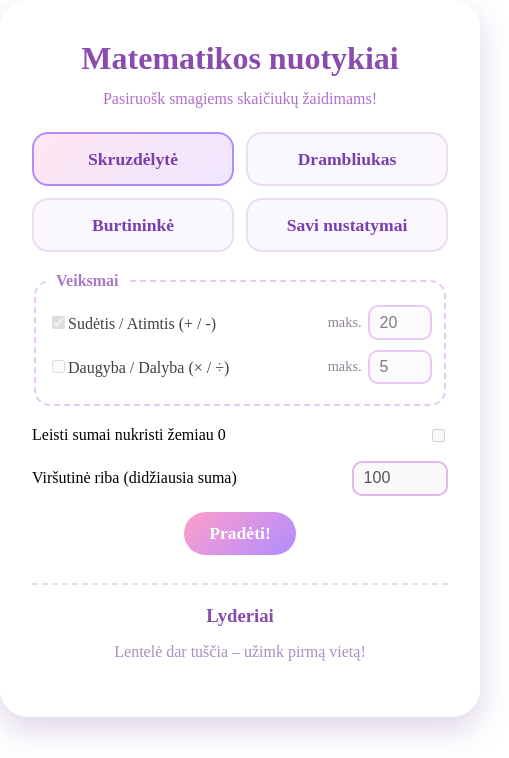
Test case: SettingsScreen presets › does not let custom edits leak into the presets
Click the radio button labelled "Savi nustatymai".
click(347, 225)  # box top-left (246, 198), bottom-right (448, 252)
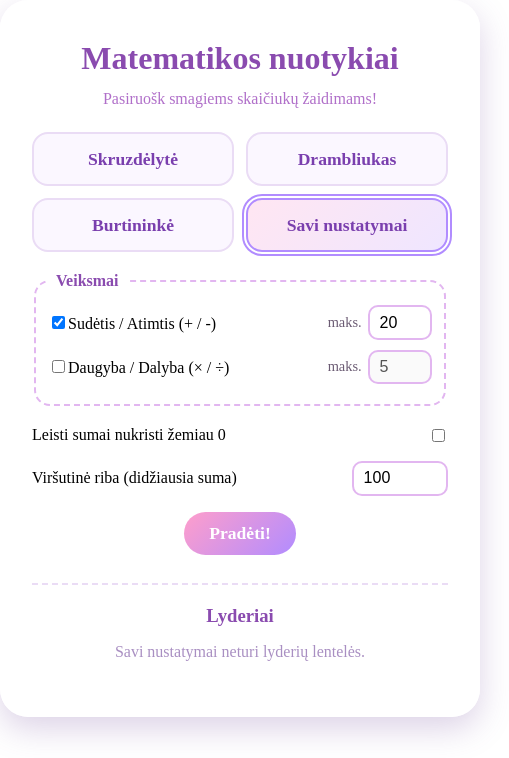
Replace the text in the number field labelled "Viršutinė riba (didžiausia suma)" with "7" at (400, 478), box top-left (352, 461), bottom-right (448, 496)
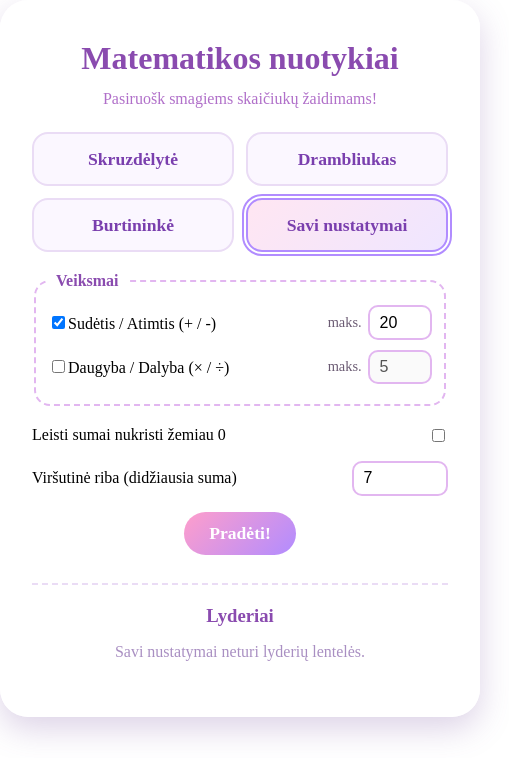
Click the radio button labelled "Skruzdėlytė".
click(133, 159)  # box top-left (32, 132), bottom-right (234, 186)
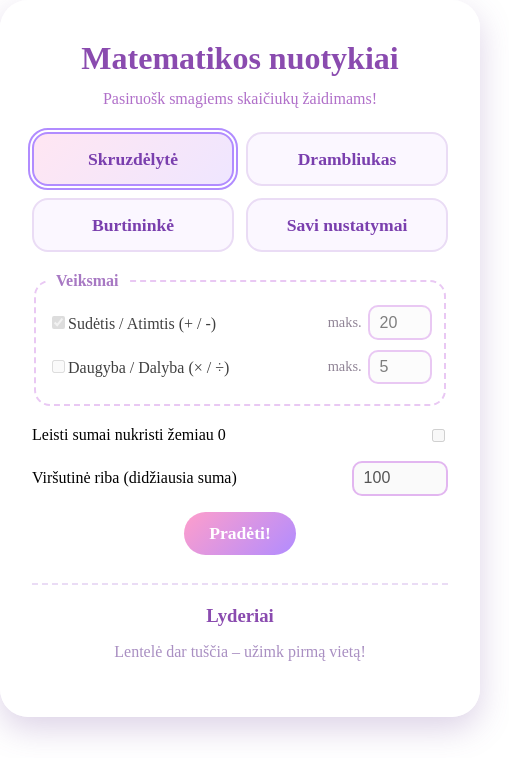
Expected: the number field labelled "Viršutinė riba (didžiausia suma)" holds "100", top-left (352, 461), bottom-right (448, 496)
